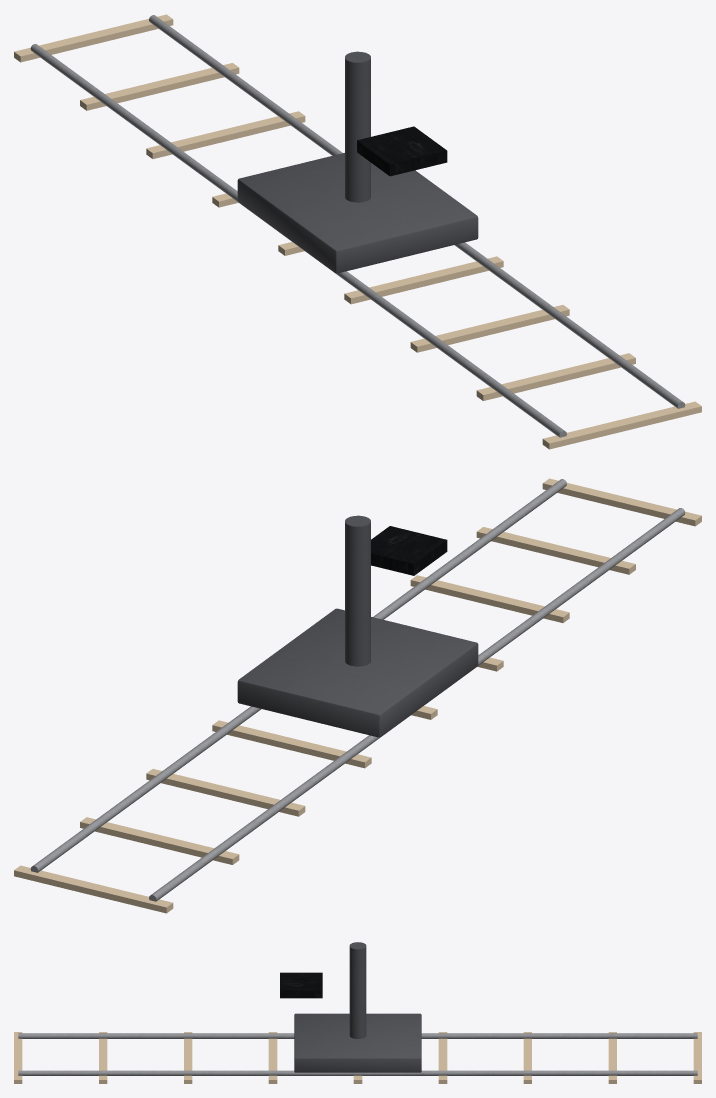
The model's file is camera_dolly_track.gltf.
3 views of the same model, one above another, from view 1: azimuth 30°, elevation 25°; view 2: azimuth 150°, elevation 25°; view 3: azimuth 270°, elevation 25° (orthographic). The views are drawn at different scales.
Parts seen in each view (by area): view 1: camera_dolly_track; view 2: camera_dolly_track; view 3: camera_dolly_track.
Part boxes in pixels (x1,y1,x2,y2): camera_dolly_track: (14, 14, 701, 449); camera_dolly_track: (14, 478, 701, 913); camera_dolly_track: (14, 942, 701, 1083).
Size of the model in its own units: 0.8 by 0.89 by 4.86.
Materials: 5 (4 with a texture image).
